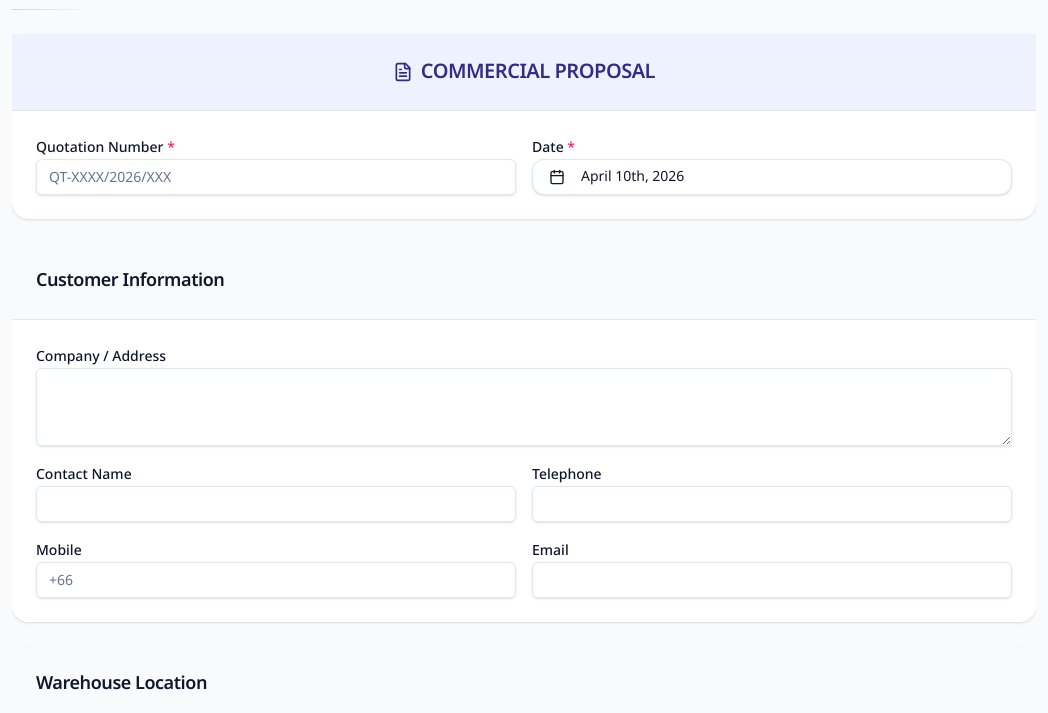
it: FormSaleCommercialProposalPage › renders Reset button and clears form on click
Step 1. Type "CQ-TEST" into the field with placeholder "QT-XXXX/2026/XXX" → (276, 177), box [36,159,516,195]
(page scrolled)
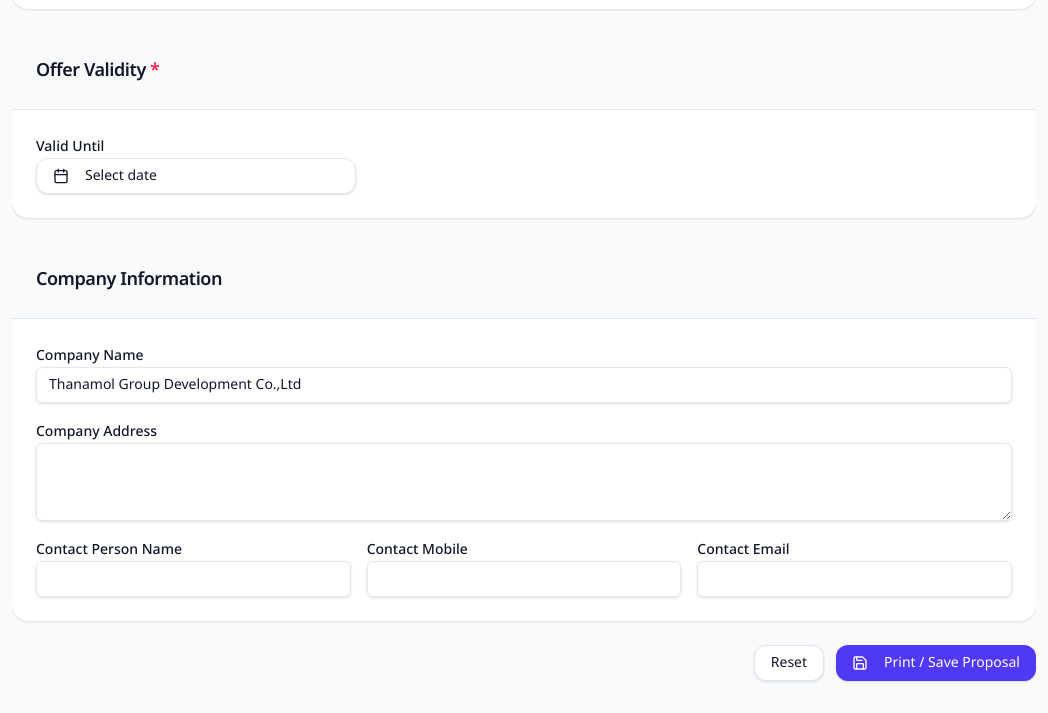
Step 2. Click the button "Reset" → (789, 662), box [754,644,824,680]
(page scrolled)
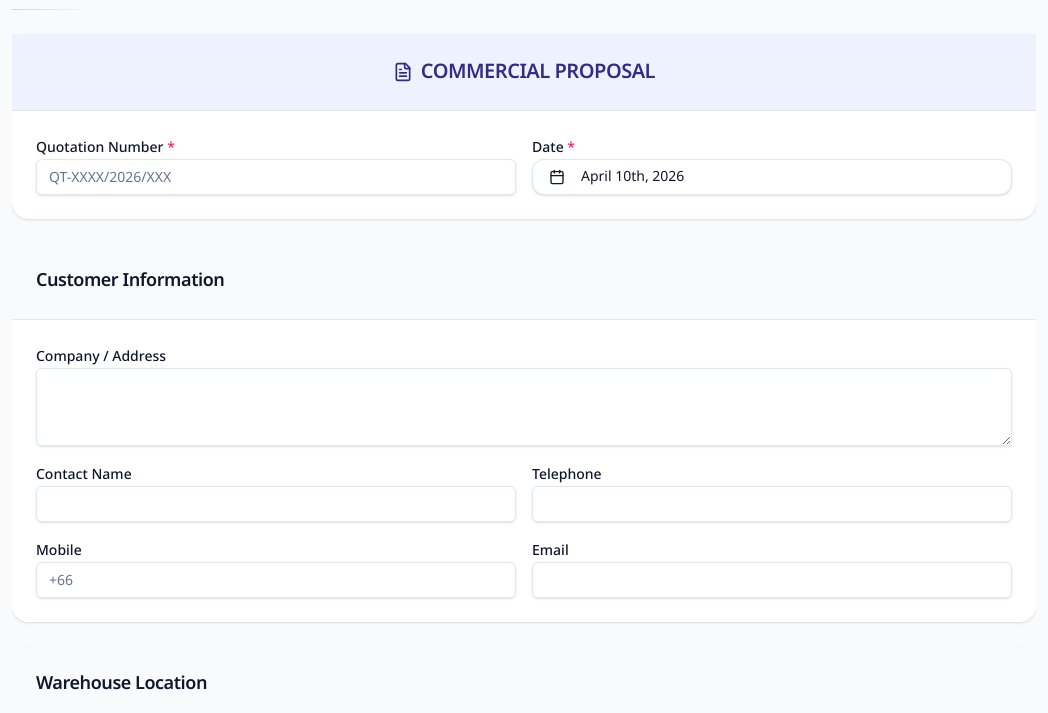
Check: the field with placeholder "QT-XXXX/2026/XXX" is empty, box [36,159,516,195]
